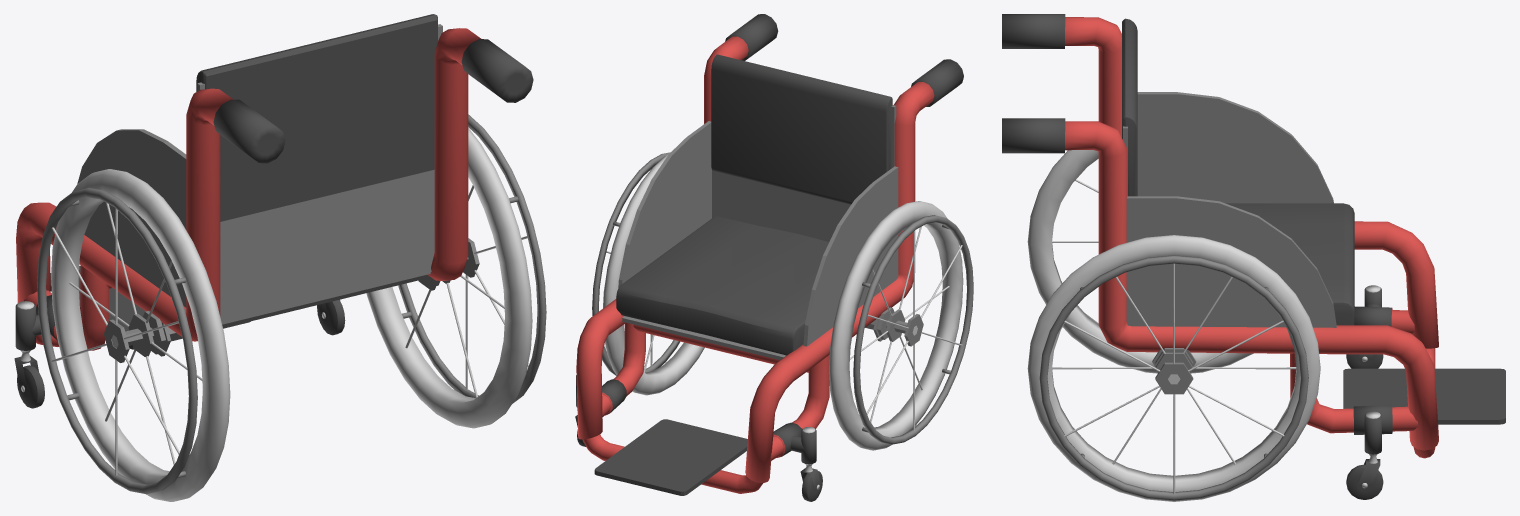
File: Wheelchair.fbx
The picture shows the model from 3 angles, left to right: view 1: azimuth 30°, elevation 25°; view 2: azimuth 150°, elevation 25°; view 3: azimuth 270°, elevation 25°; orthographic projection. The views are drawn at different scales.
Parts seen in each view (by area): view 1: Wheels, CushionTop, ChairBase, Pipes, TinyWheels, FootPlatform; view 2: Wheels, Pipes, ChairBase, CushionTop, CushionBottom, FootPlatform, TinyWheels; view 3: ChairBase, Pipes, Wheels, FootPlatform, CushionBottom, CushionTop, TinyWheels.
Part boxes in pixels (x1=…): Wheels: x1=37, y1=114, x2=546, y2=501; CushionTop: x1=196, y1=14, x2=437, y2=221; ChairBase: x1=77, y1=24, x2=442, y2=324; Pipes: x1=14, y1=28, x2=533, y2=395; TinyWheels: x1=17, y1=299, x2=345, y2=408; FootPlatform: x1=50, y1=266, x2=250, y2=349; Wheels: x1=592, y1=152, x2=973, y2=450; Pipes: x1=575, y1=14, x2=963, y2=493; ChairBase: x1=618, y1=63, x2=898, y2=359; CushionTop: x1=711, y1=54, x2=892, y2=204; CushionBottom: x1=616, y1=216, x2=828, y2=355; FootPlatform: x1=594, y1=419, x2=747, y2=495; TinyWheels: x1=577, y1=429, x2=822, y2=501; ChairBase: x1=1123, y1=92, x2=1336, y2=327; Pipes: x1=1002, y1=14, x2=1438, y2=490; Wheels: x1=1027, y1=150, x2=1320, y2=501; FootPlatform: x1=1343, y1=368, x2=1505, y2=424; CushionBottom: x1=1225, y1=203, x2=1354, y2=325; CushionTop: x1=1122, y1=18, x2=1137, y2=196; TinyWheels: x1=1346, y1=354, x2=1383, y2=499.
Size of the model in its own units: 242 by 280 by 345.
Materials: 1 (1 with a texture image).
